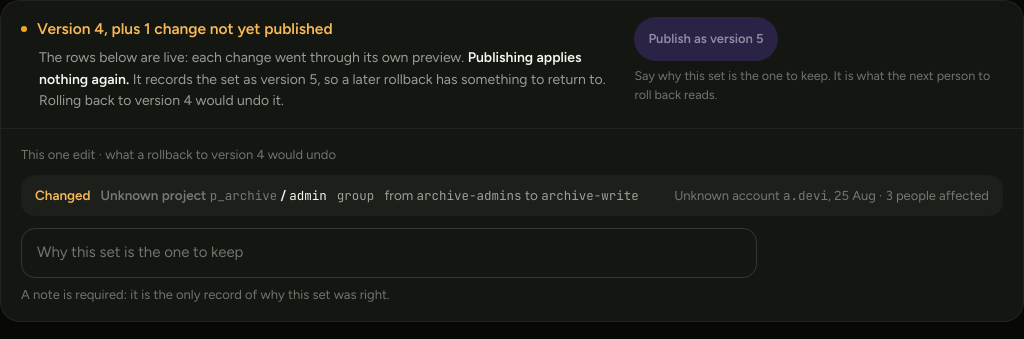
Test: the note is the audit record, so it is required › offers it once a reason is given
Type "summer build cohort" into the field with placeholder "Why this set is the one to keep" at (389, 253), box [21, 228, 757, 278]
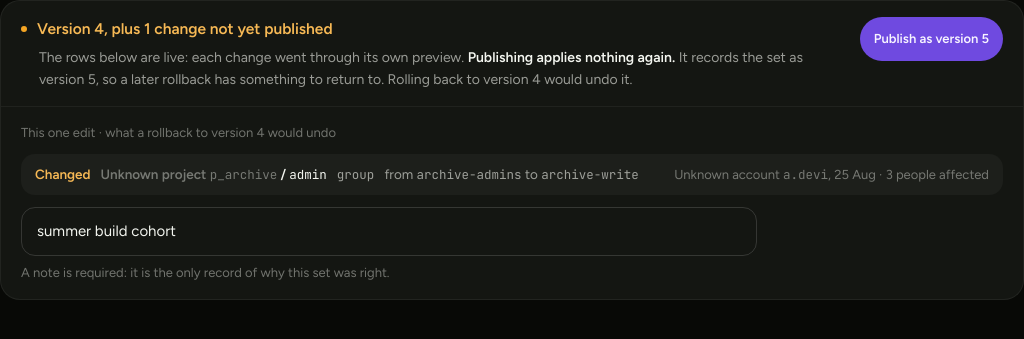
expect the button "Publish as version 5" is enabled: met, box [860, 17, 1003, 61]
